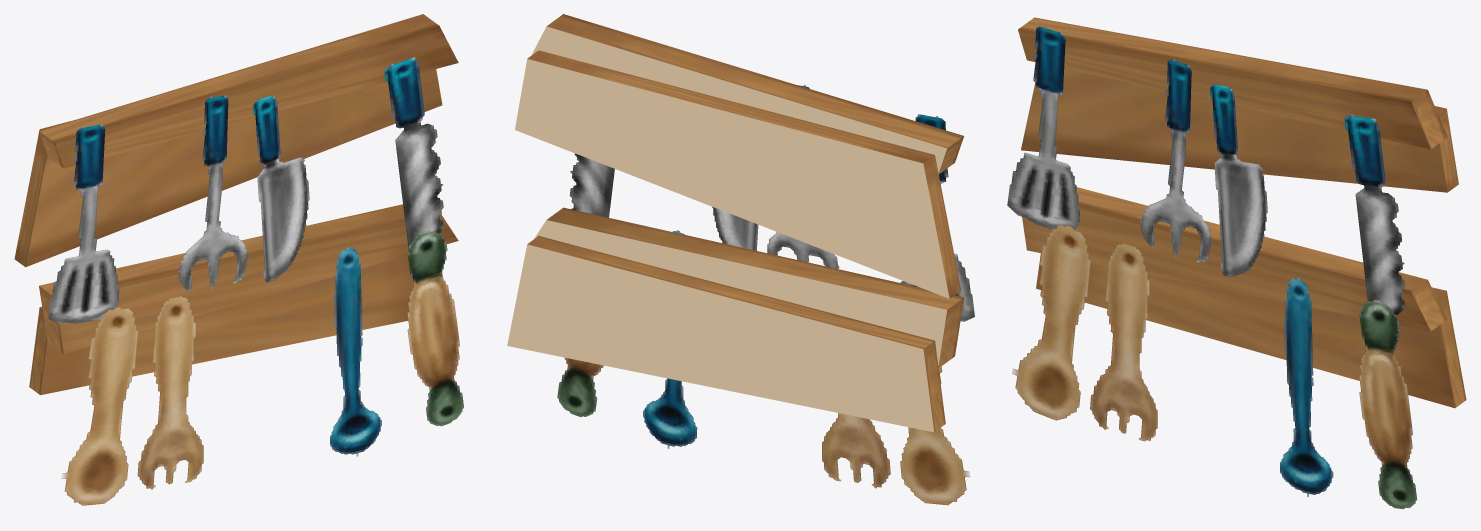
File: dog8_1.glb
3 renders of one model, left to right at view 1: azimuth 30°, elevation 25°; view 2: azimuth 150°, elevation 25°; view 3: azimuth 330°, elevation 25°, orthographic. The views are drawn at different scales.
Parts seen in each view (by area): view 1: dog8_1; view 2: dog8_1; view 3: dog8_1.
Part boxes in pixels (x1,y1,x2,y2): dog8_1: (14,14,463,505); dog8_1: (507,14,974,505); dog8_1: (1007,17,1466,509).
Size of the model in its own units: 289 by 260 by 43.
2 materials, 2 textured.
